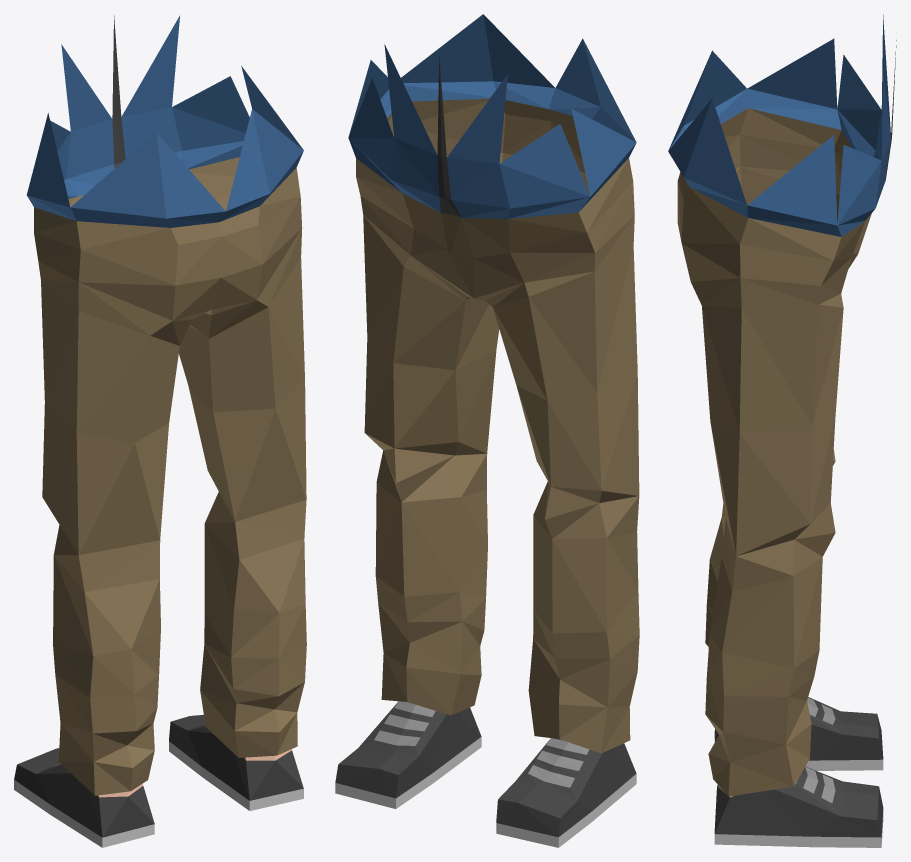
Rendered from Legs.obj.
The picture shows the model from 3 angles, left to right: view 1: azimuth 30°, elevation 25°; view 2: azimuth 150°, elevation 25°; view 3: azimuth 270°, elevation 25°; orthographic projection. The views are drawn at different scales.
Bounding box in the file's own units: 0.365 × 1.11 × 0.3025.
Materials: 1 (1 with a texture image).
